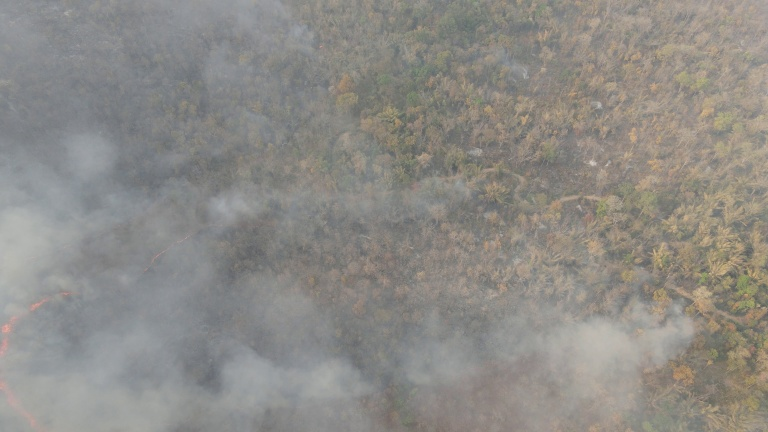fire: (1, 289, 68, 432), (135, 220, 217, 281)
smoke: (1, 148, 332, 432), (562, 289, 692, 402), (203, 5, 332, 64)
